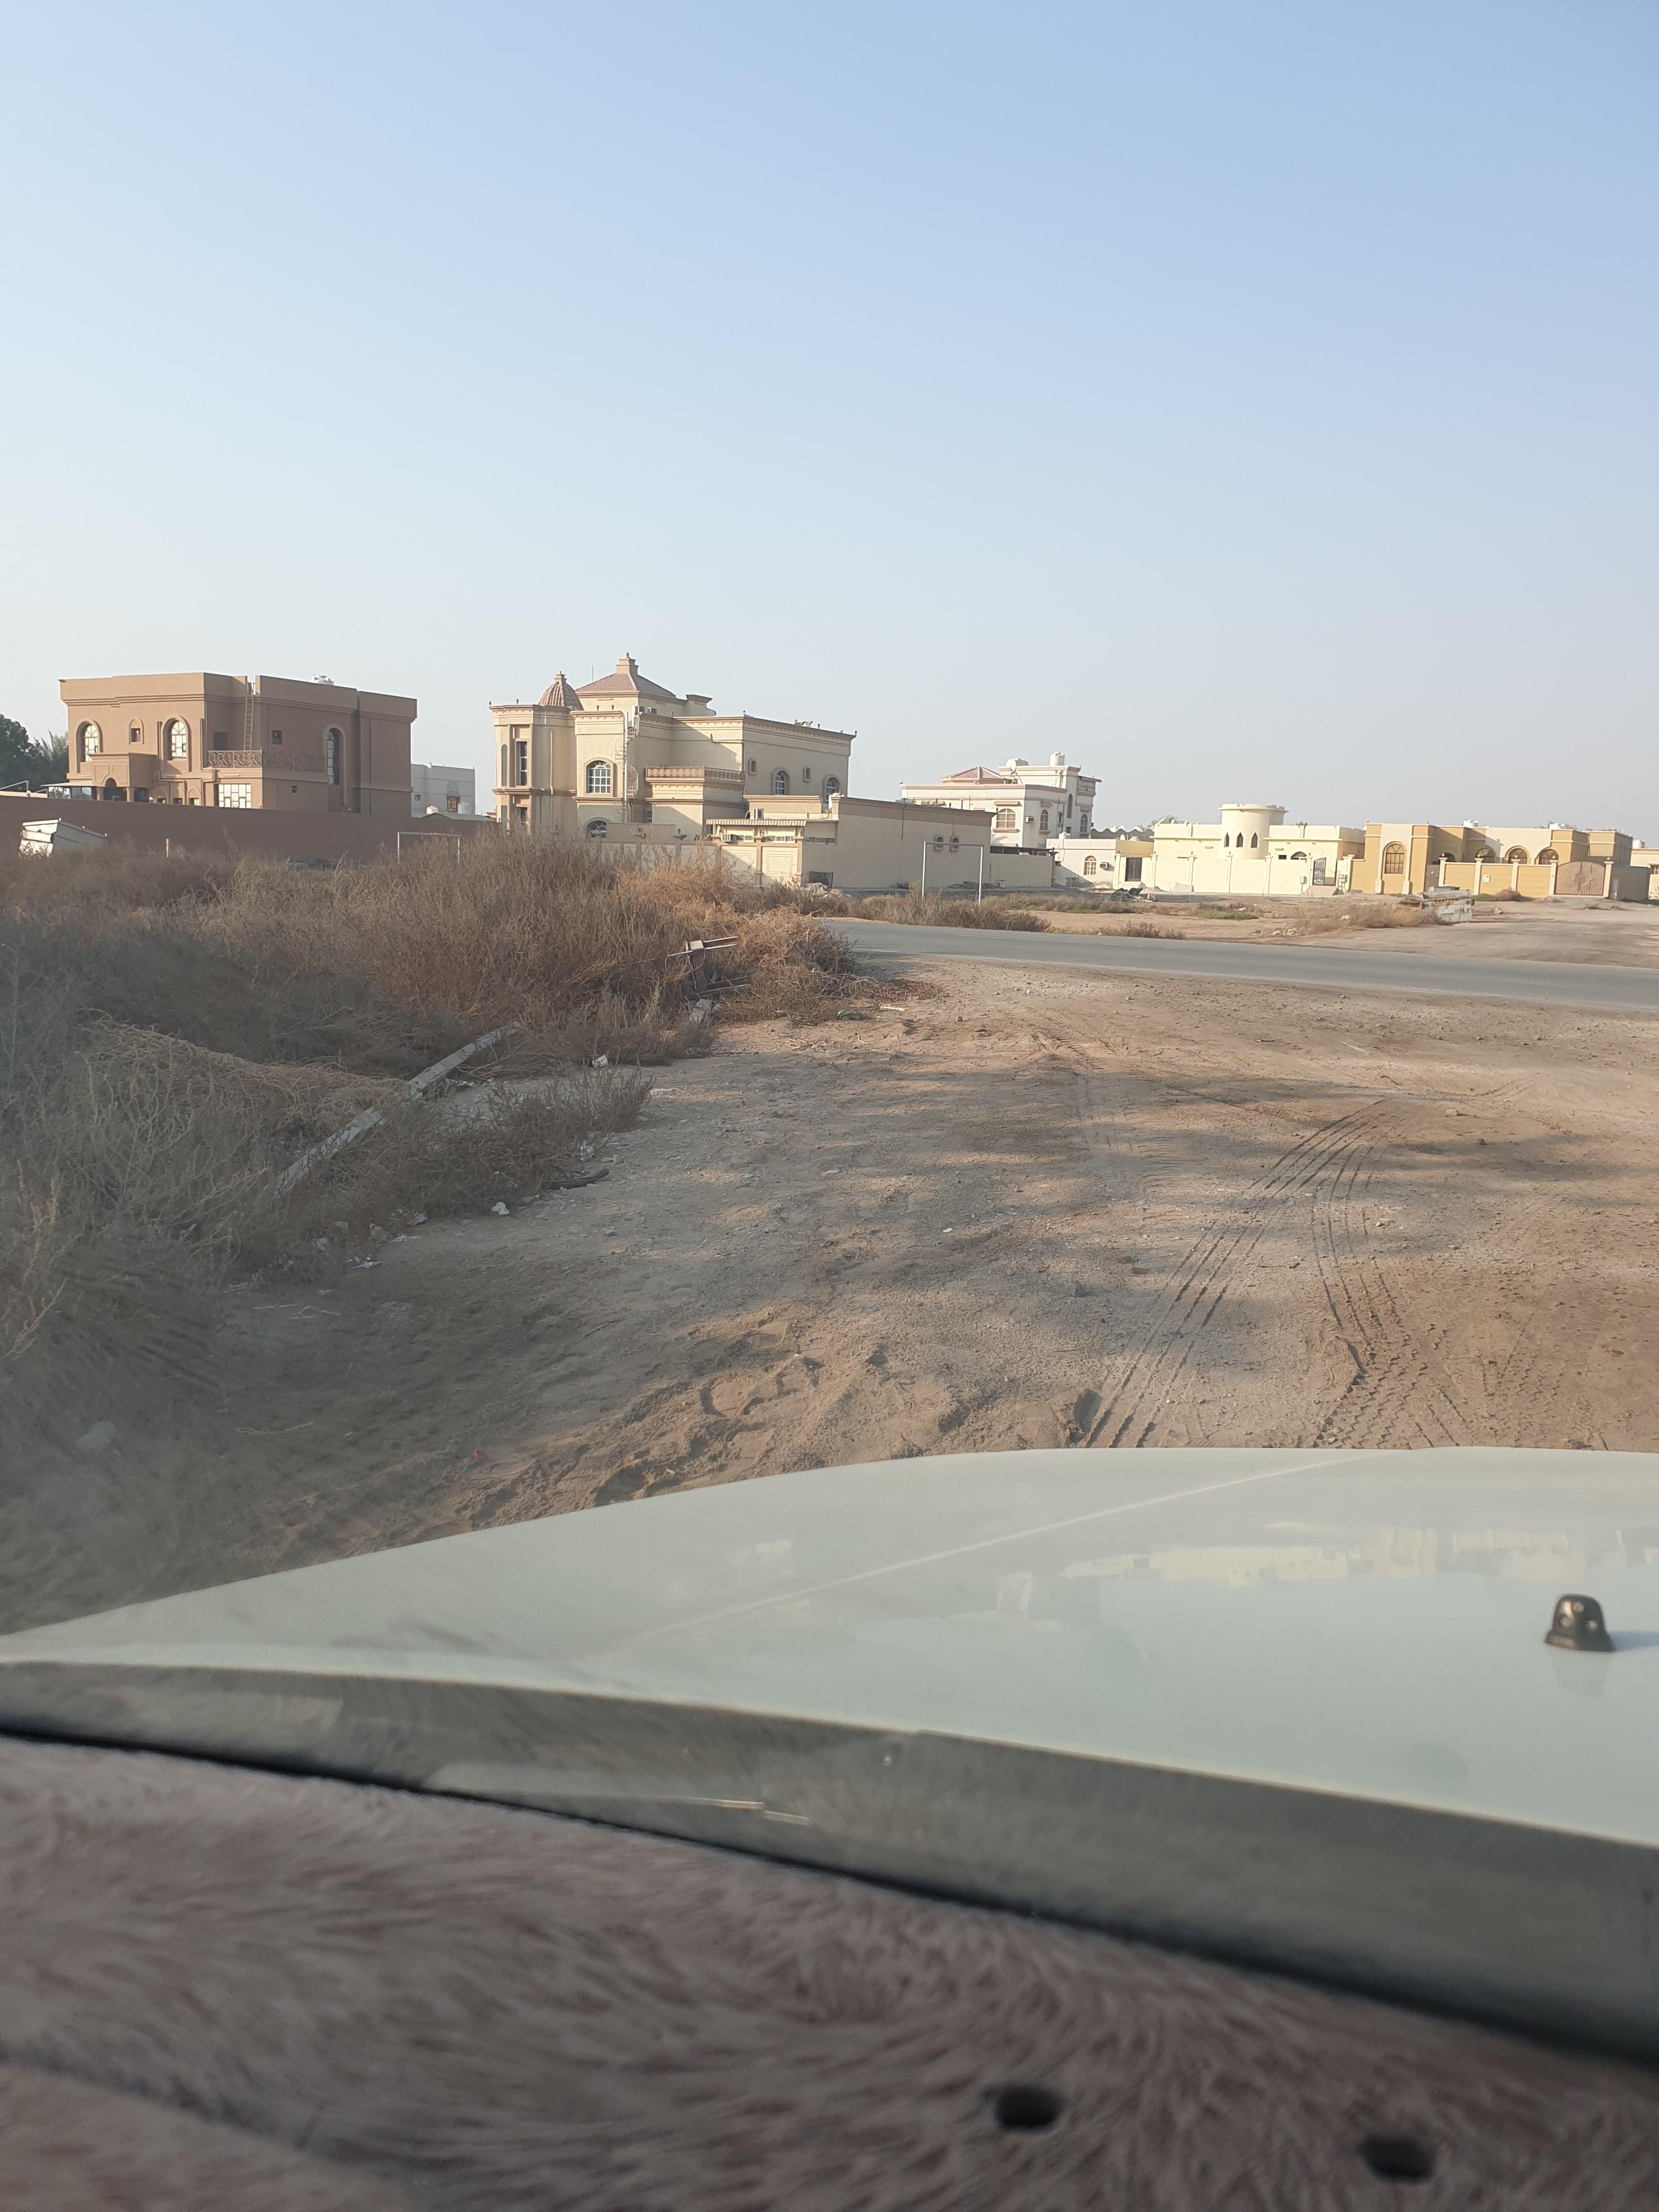fallen_trees: (877, 967, 950, 1012)
uncollected_waste: (647, 934, 762, 1001)
